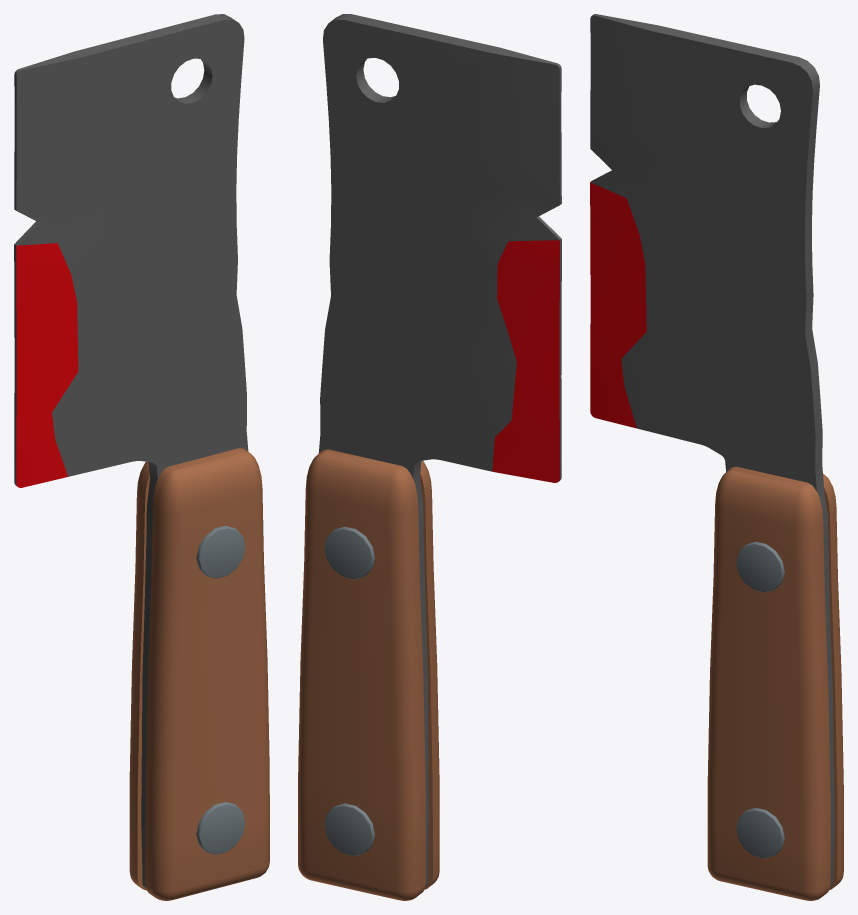
Rendered from Augment de mal si apunyalat per la╠é┬Ç┬Öesquena.fbx.
3 renders of one model, left to right at view 1: azimuth 30°, elevation 25°; view 2: azimuth 150°, elevation 25°; view 3: azimuth 330°, elevation 25°, orthographic. The views are drawn at different scales.
Visible parts, largest first — view 1: Ganivet, Cube.001, Cylinder_Cylinder.002, Cylinder.001_Cylinder.003; view 2: Ganivet, Cube.001, Cylinder_Cylinder.002, Cylinder.001_Cylinder.003; view 3: Ganivet, Cube.001, Cylinder_Cylinder.002, Cylinder.001_Cylinder.003.
Part boxes in pixels (<box>): Ganivet: <box>14,14,248,887</box>; Cube.001: <box>129,448,269,900</box>; Cylinder_Cylinder.002: <box>196,525,245,578</box>; Cylinder.001_Cylinder.003: <box>196,802,245,854</box>; Ganivet: <box>318,14,561,886</box>; Cube.001: <box>298,449,439,900</box>; Cylinder_Cylinder.002: <box>324,526,374,579</box>; Cylinder.001_Cylinder.003: <box>324,803,374,856</box>; Ganivet: <box>590,14,834,886</box>; Cube.001: <box>707,466,843,900</box>; Cylinder_Cylinder.002: <box>736,541,784,592</box>; Cylinder.001_Cylinder.003: <box>736,807,784,858</box>.
Size of the model in its own units: 209 by 692 by 60.01.
